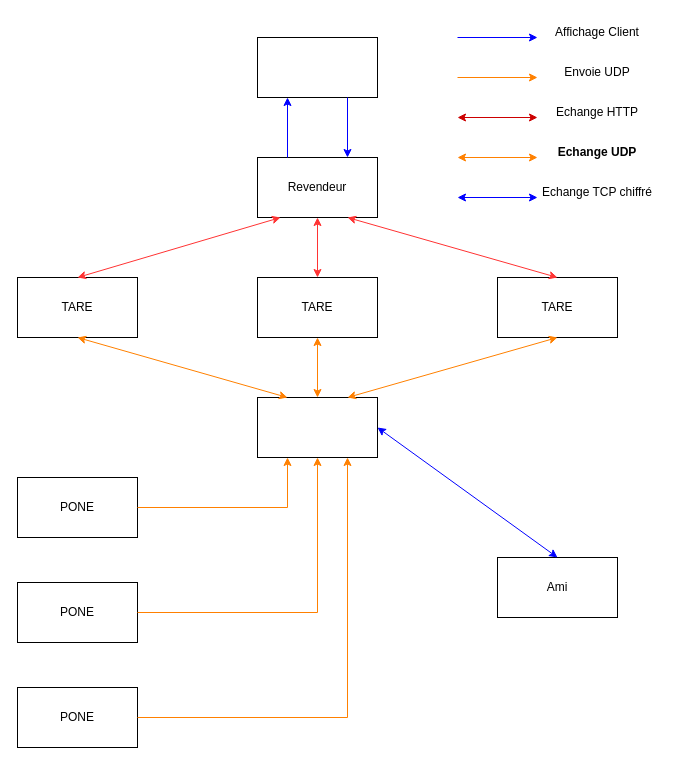
Image size: 675x765. Some labels were removed from this diagram. The box of each missing label's shape, as (x1, y1, x2, y2) in pixels:
Client: (256, 36, 378, 98)
Marché Gros: (256, 396, 378, 458)
